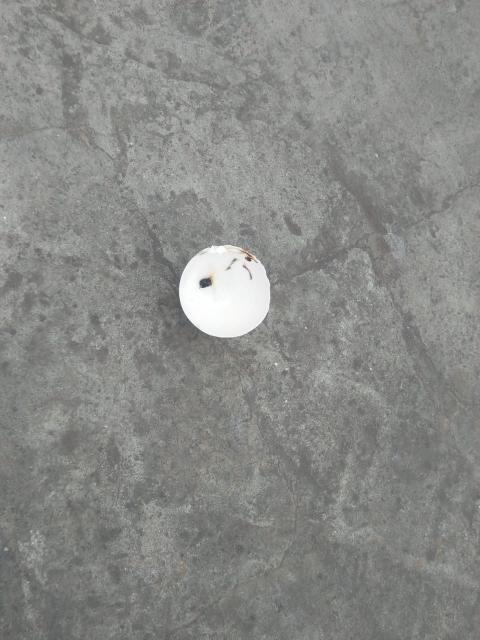Roto: (177, 244, 271, 338)
